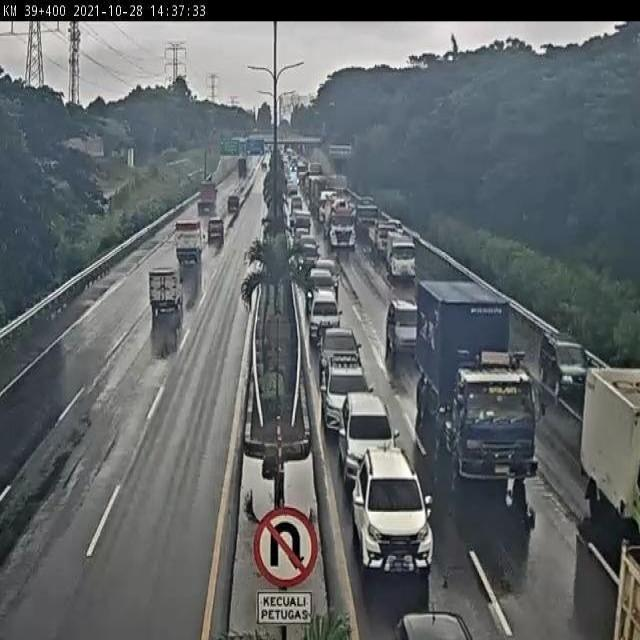Car: (347, 445, 436, 592), (340, 393, 390, 474), (542, 336, 594, 403), (321, 362, 372, 429), (318, 325, 362, 374), (383, 301, 419, 356), (308, 290, 342, 342), (305, 265, 341, 295), (208, 216, 225, 246), (226, 195, 240, 217)
Truck: (416, 278, 540, 482), (305, 167, 357, 249), (147, 264, 187, 315), (384, 227, 416, 280), (176, 218, 203, 270), (198, 182, 220, 216)
